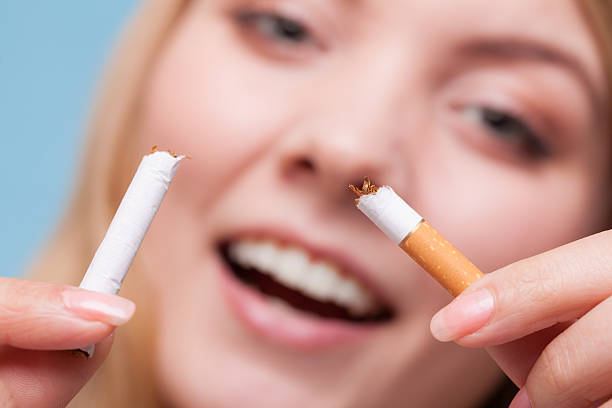cigarette: (68, 146, 183, 361), (351, 178, 484, 295)
